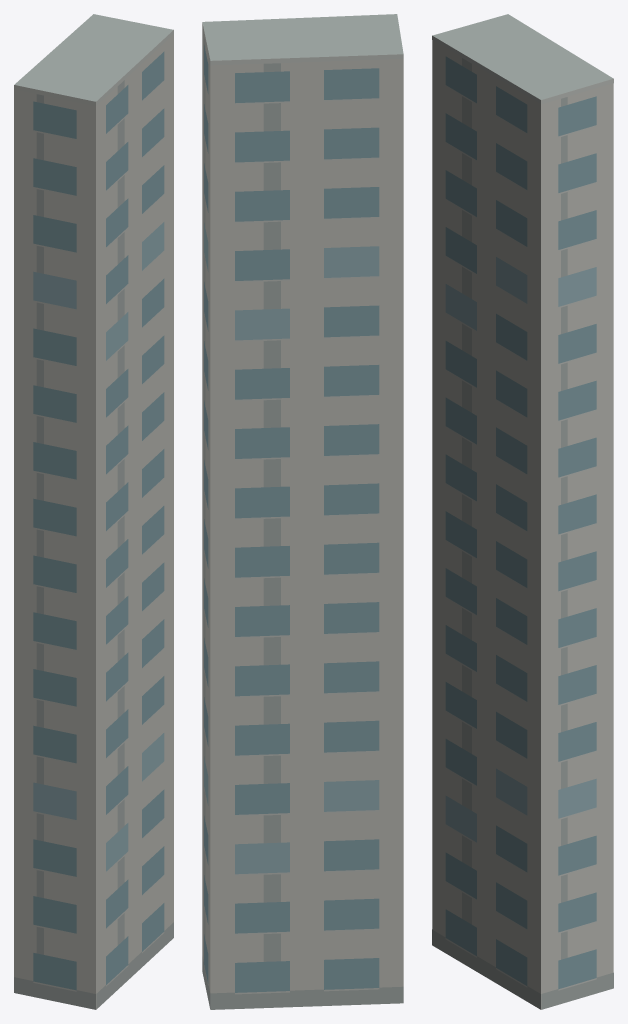
File: survey-upis-32837220.glb
3 renders of one model, left to right at view 1: azimuth 30°, elevation 25°; view 2: azimuth 150°, elevation 25°; view 3: azimuth 270°, elevation 25°, orthographic. The views are drawn at different scales.
Parts seen in each view (by area): view 1: survey-upis-32837220.tmp; view 2: survey-upis-32837220.tmp; view 3: survey-upis-32837220.tmp.
Part boxes in pixels (x1,y1,x2,y2): survey-upis-32837220.tmp: [14, 14, 173, 1009]; survey-upis-32837220.tmp: [202, 14, 403, 1009]; survey-upis-32837220.tmp: [432, 14, 613, 1009].
Bounding box in the file's own units: 9.92 × 48.8 × 8.84.
